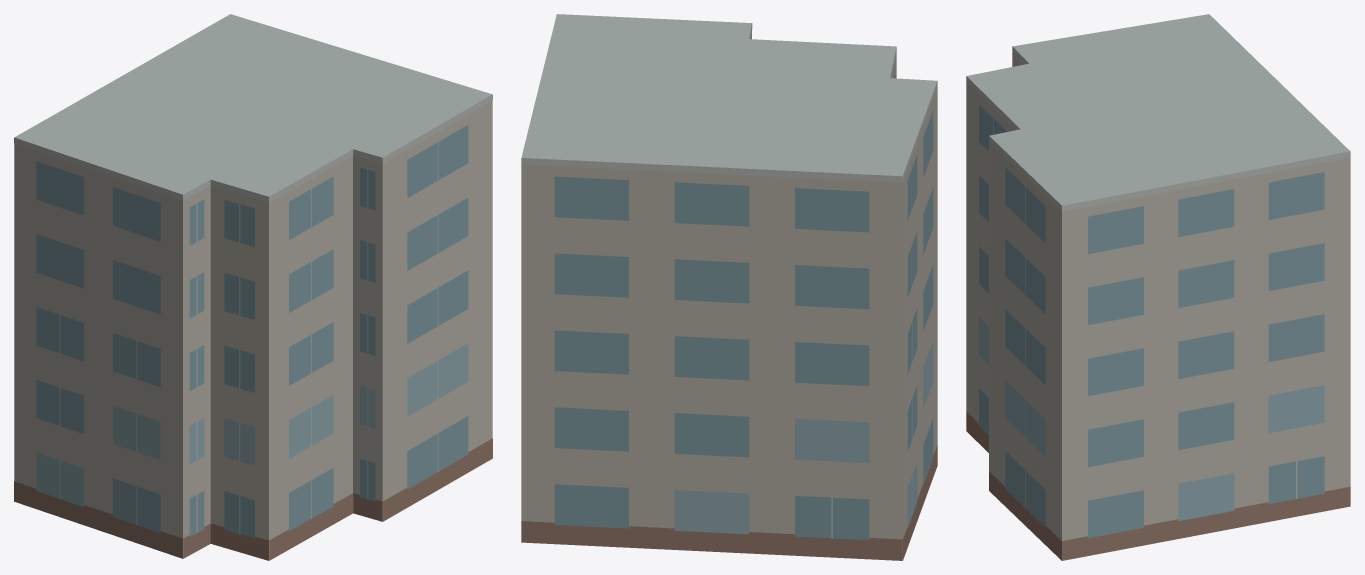
The model's file is survey-upis-32849185.glb.
3 renders of one model, left to right at view 1: azimuth 30°, elevation 25°; view 2: azimuth 150°, elevation 25°; view 3: azimuth 270°, elevation 25°, orthographic. The views are drawn at different scales.
Parts seen in each view (by area): view 1: survey-upis-32849185.tmp; view 2: survey-upis-32849185.tmp; view 3: survey-upis-32849185.tmp.
Part boxes in pixels (<box>): survey-upis-32849185.tmp: <box>14,14,492,560</box>; survey-upis-32849185.tmp: <box>521,14,937,560</box>; survey-upis-32849185.tmp: <box>966,14,1350,560</box>.
Bounding box in the file's own units: 16.46 × 14.2 × 13.93.
